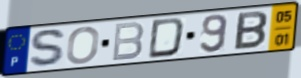9: (199, 13, 229, 54)
B: (232, 10, 269, 52), (110, 21, 146, 63)
D: (146, 16, 188, 60)
O: (65, 25, 101, 65)
S: (27, 28, 69, 69)
